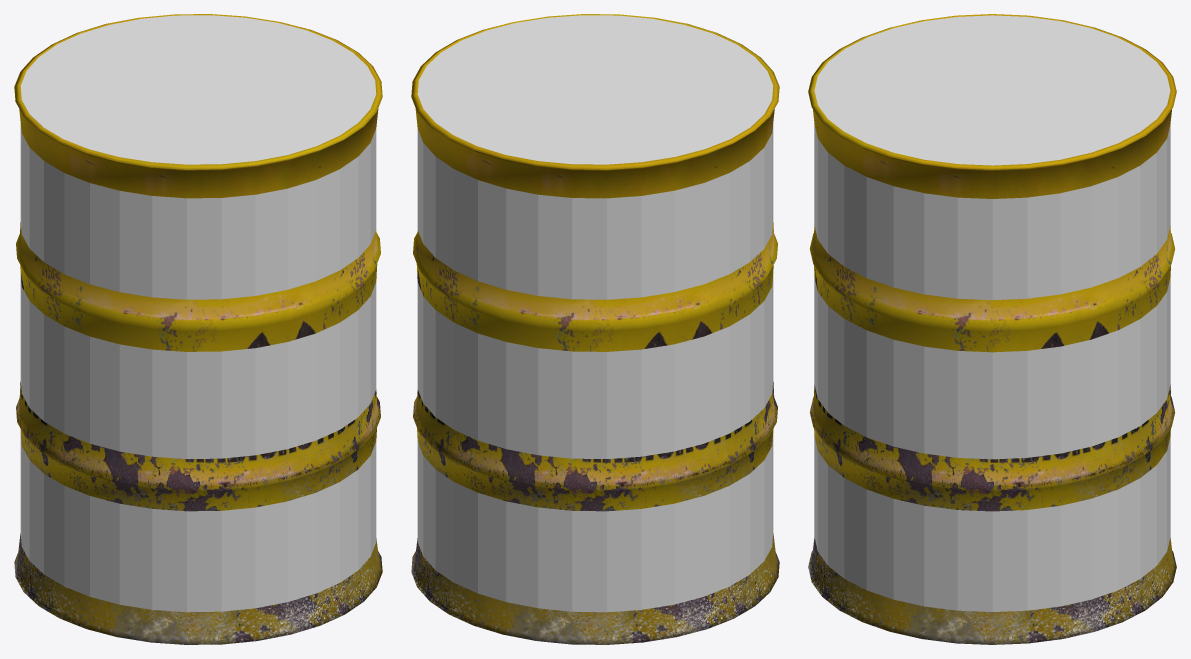
The model's file is SingleYellowcake.fbx.
3 renders of one model, left to right at view 1: azimuth 30°, elevation 25°; view 2: azimuth 150°, elevation 25°; view 3: azimuth 270°, elevation 25°, orthographic.
Visible parts, largest first — view 1: UCL_Cylinder, Cylinder; view 2: UCL_Cylinder, Cylinder; view 3: UCL_Cylinder, Cylinder.
Part boxes in pixels (<box>): UCL_Cylinder: <box>20,15,376,612</box>; Cylinder: <box>14,14,382,644</box>; UCL_Cylinder: <box>417,15,773,612</box>; Cylinder: <box>411,14,779,644</box>; UCL_Cylinder: <box>814,15,1170,611</box>; Cylinder: <box>808,14,1176,644</box>.
Size of the model in its own units: 70.53 by 101 by 70.53.
